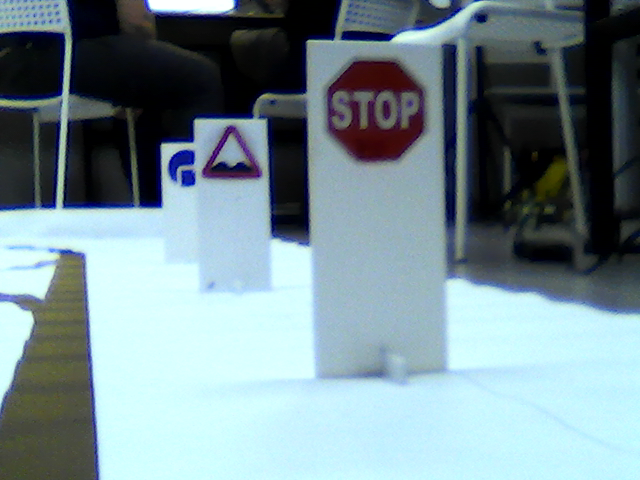Nerov: (201, 122, 263, 181)
Stop: (324, 52, 430, 167)
